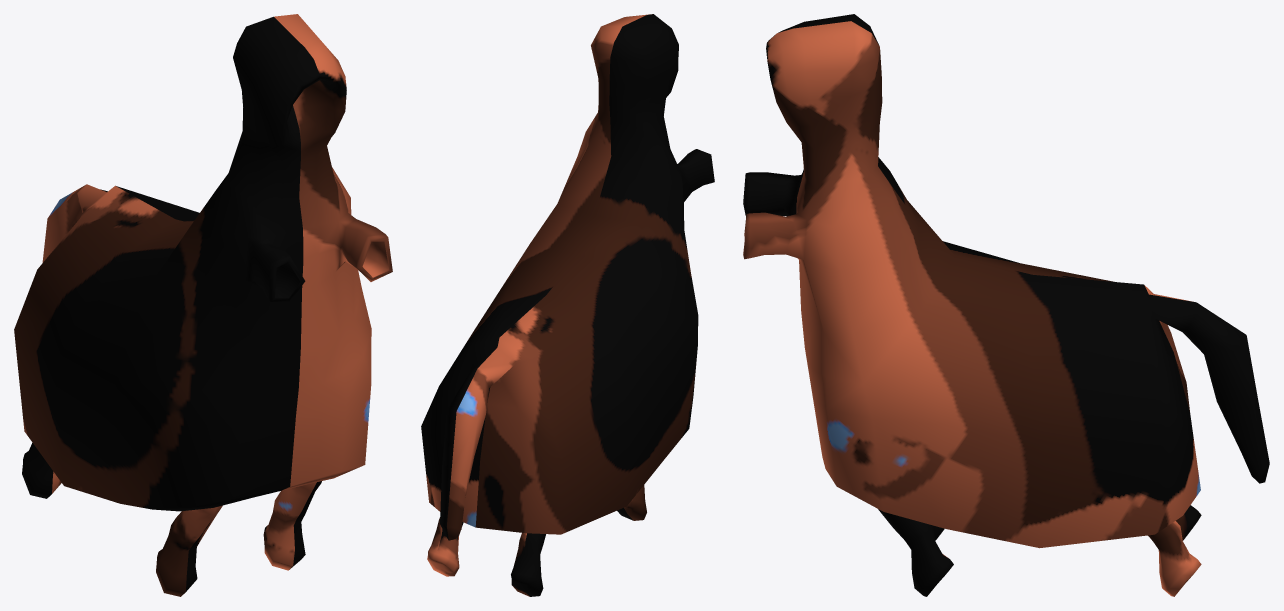
Rendered from jUAN.fbx.
3 views of the same model, side by side, from view 1: azimuth 30°, elevation 25°; view 2: azimuth 150°, elevation 25°; view 3: azimuth 270°, elevation 25° (orthographic). The views are drawn at different scales.
Visible parts, largest first — view 1: polySurface1, polySurface2, polySurface3; view 2: polySurface1, polySurface3, polySurface2; view 3: polySurface1, polySurface2, polySurface3.
Boxes of the visible parts, bbox=[...] form: polySurface1: bbox=[14, 14, 392, 511]; polySurface2: bbox=[156, 481, 321, 596]; polySurface3: bbox=[22, 443, 61, 498]; polySurface1: bbox=[421, 14, 714, 540]; polySurface3: bbox=[427, 517, 545, 596]; polySurface2: bbox=[617, 485, 646, 520]; polySurface1: bbox=[743, 14, 1269, 548]; polySurface2: bbox=[878, 509, 953, 596]; polySurface3: bbox=[1148, 505, 1201, 596].
Size of the model in its own units: 1.9 by 4.75 by 4.12.
